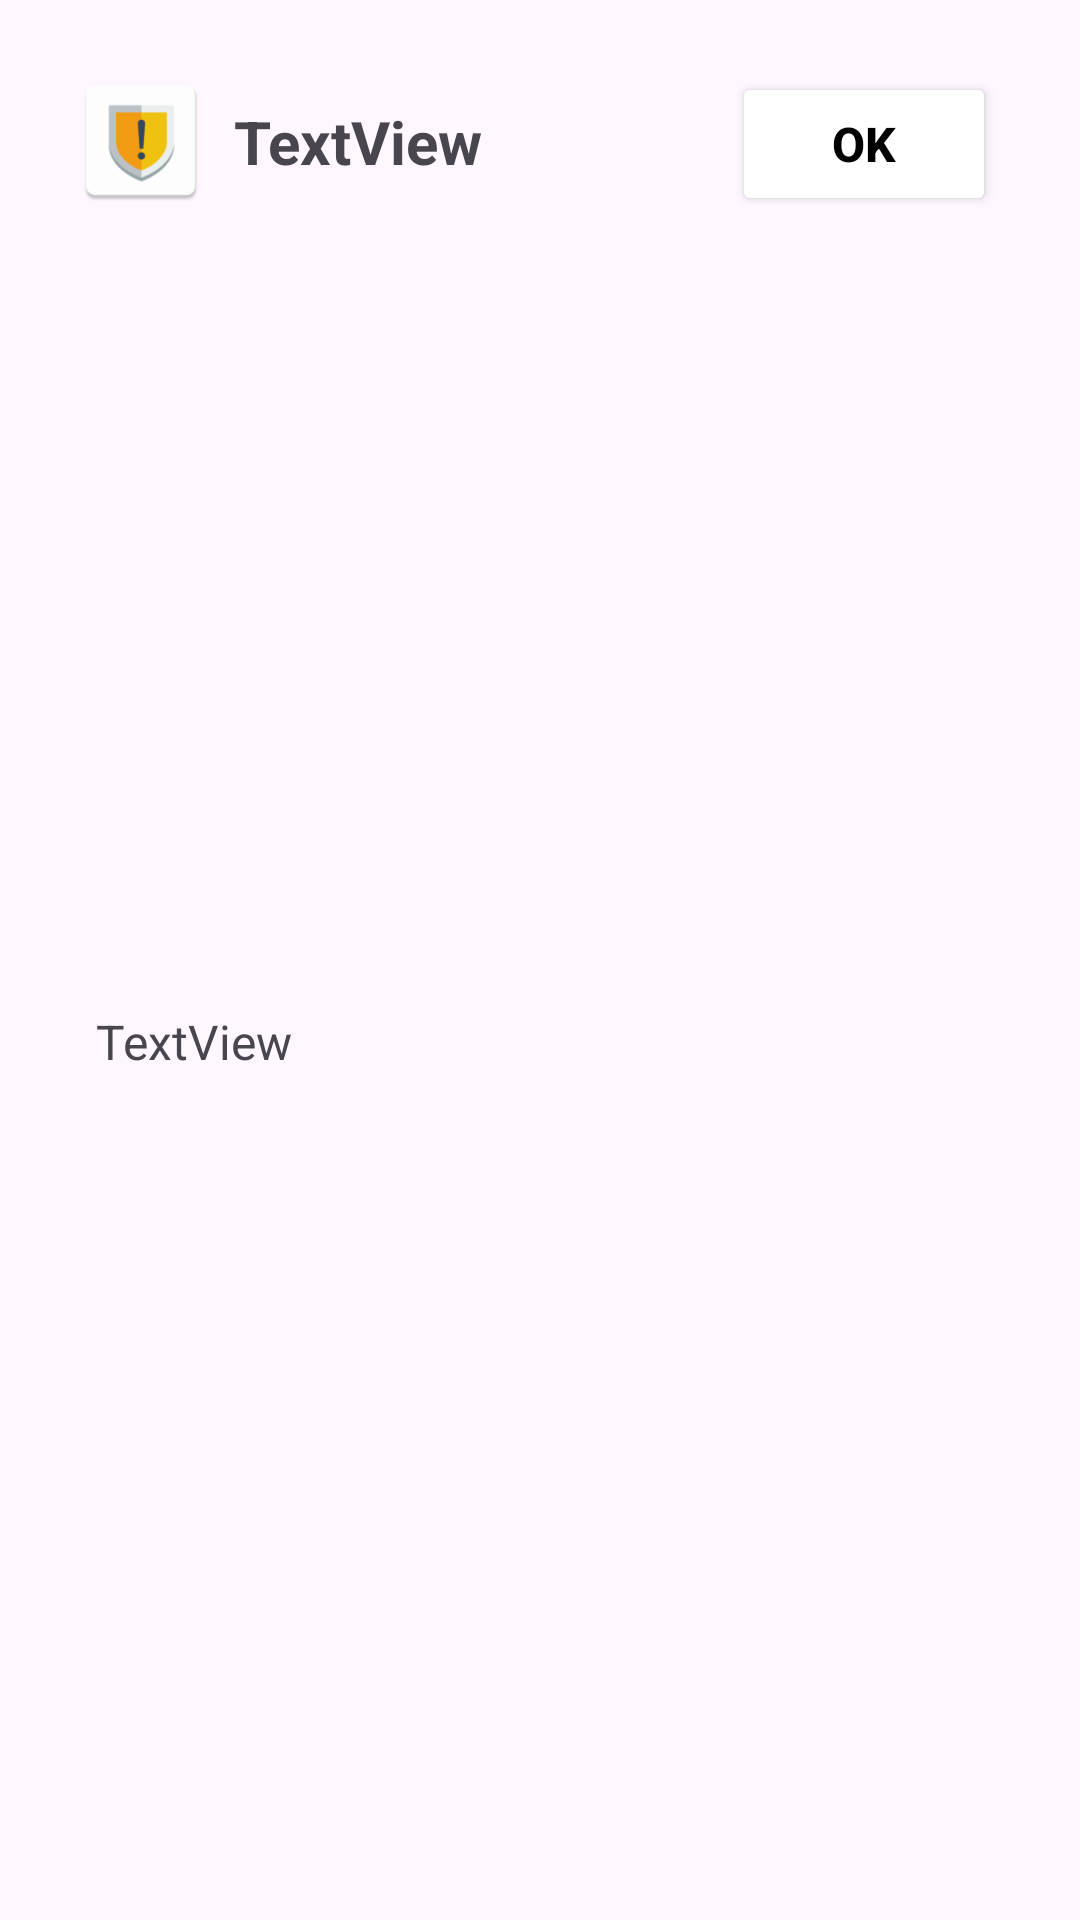

Icon bounding boxes for this 1080 x 1920 phone screenshot, format (x1, y1, x2, y2):
warrning: (86, 93, 196, 199)
